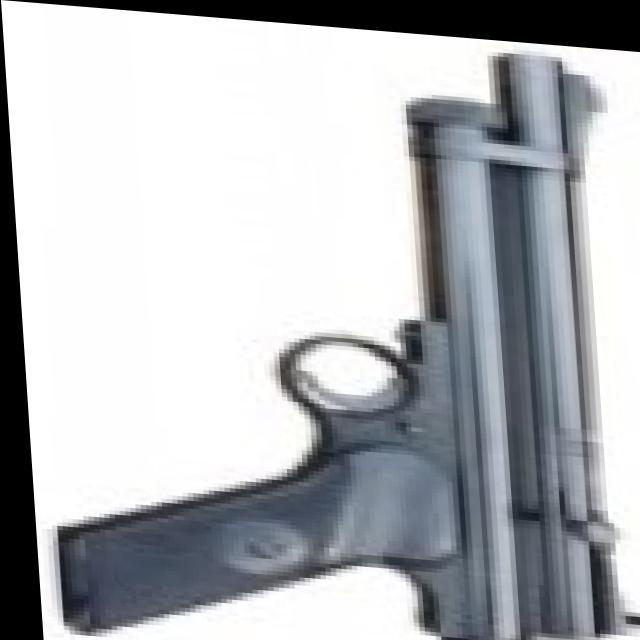handgun: (28, 14, 640, 640)
